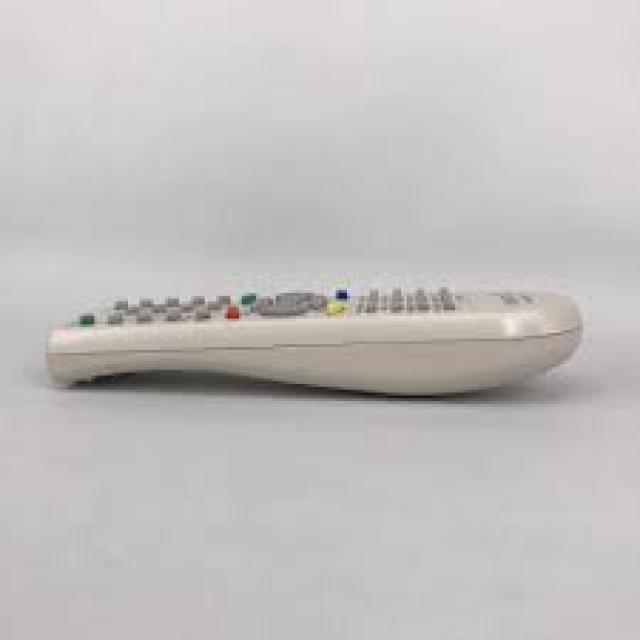remote: (52, 286, 585, 395)
